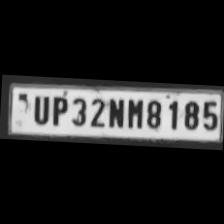1: (162, 97, 182, 130)
2: (86, 93, 106, 126)
3: (66, 93, 88, 126)
5: (198, 97, 220, 130)
8: (142, 96, 164, 130), (178, 97, 200, 130)
M: (123, 96, 143, 128)
N: (104, 94, 124, 128)
P: (47, 93, 69, 125)
U: (28, 92, 50, 124)
